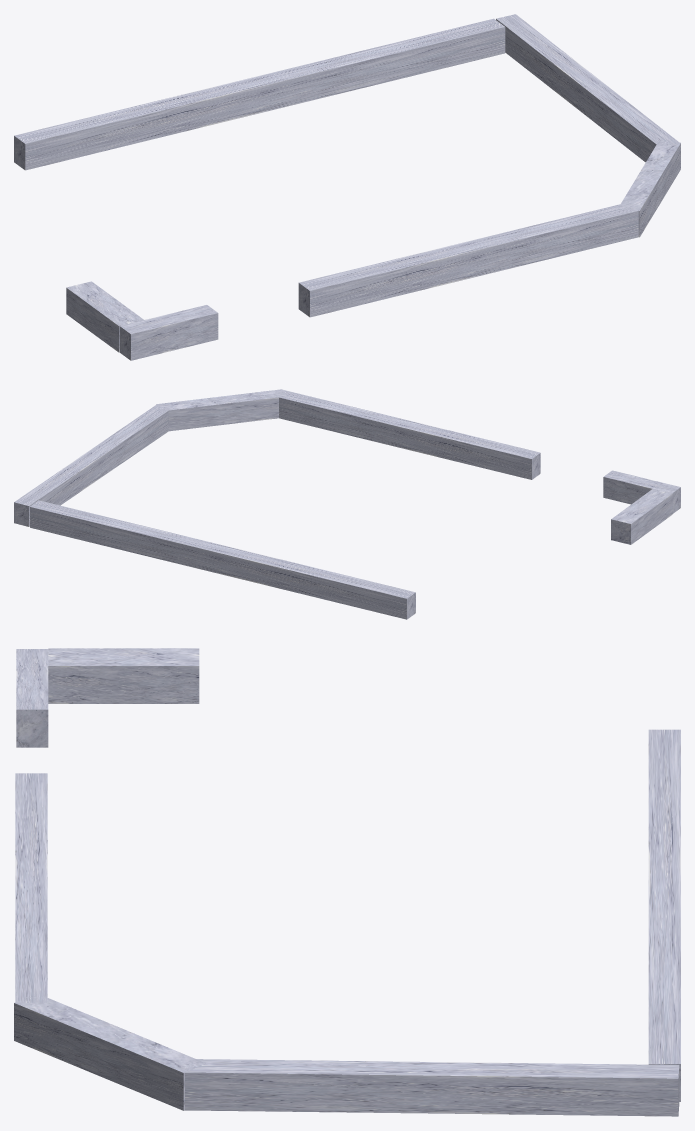
The model's file is barda.obj.
3 renders of one model, top to bottom at view 1: azimuth 30°, elevation 25°; view 2: azimuth 150°, elevation 25°; view 3: azimuth 270°, elevation 25°, orthographic. The views are drawn at different scales.
Visible parts, largest first — view 1: barda; view 2: barda; view 3: barda.
Part boxes in pixels (bbox=[...]): barda: bbox=[14, 14, 680, 360]; barda: bbox=[14, 389, 680, 619]; barda: bbox=[14, 648, 680, 1116].
Size of the model in its own units: 91.32 by 3.76 by 59.83.
1 material, 1 textured.
